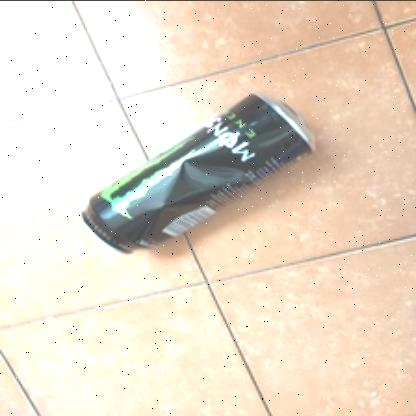Can: (78, 94, 314, 254)
